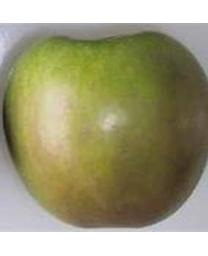apple: (2, 30, 206, 228)
